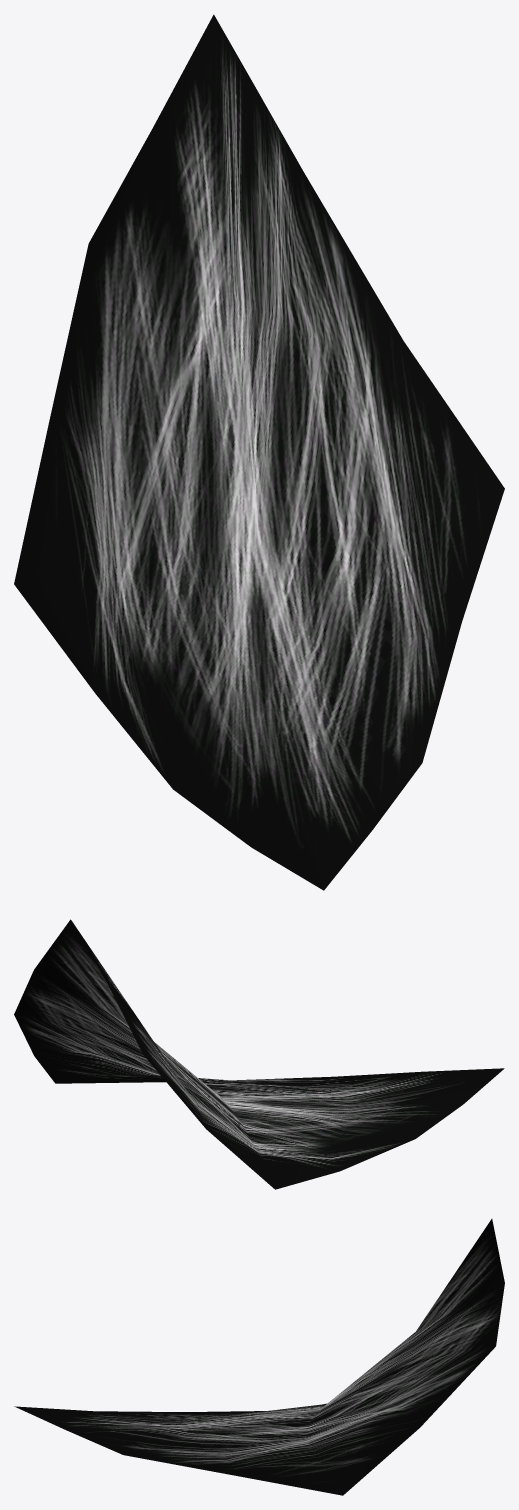
Rendered from SWORDLIGHT20_PS-AREA01_CORNERWEB23.fbx.
3 views of the same model, one above another, from view 1: azimuth 30°, elevation 25°; view 2: azimuth 150°, elevation 25°; view 3: azimuth 270°, elevation 25° (orthographic). The views are drawn at different scales.
Visible parts, largest first — view 1: SWORDLIGHT20_PS-AREA01_CORNERWEB23; view 2: SWORDLIGHT20_PS-AREA01_CORNERWEB23; view 3: SWORDLIGHT20_PS-AREA01_CORNERWEB23.
Part boxes in pixels (x1,y1,x2,y2): SWORDLIGHT20_PS-AREA01_CORNERWEB23: [14, 14, 504, 890]; SWORDLIGHT20_PS-AREA01_CORNERWEB23: [14, 919, 504, 1189]; SWORDLIGHT20_PS-AREA01_CORNERWEB23: [14, 1219, 504, 1495].
Size of the model in its own units: 35438 by 35558 by 56481.
1 material, 1 textured.
